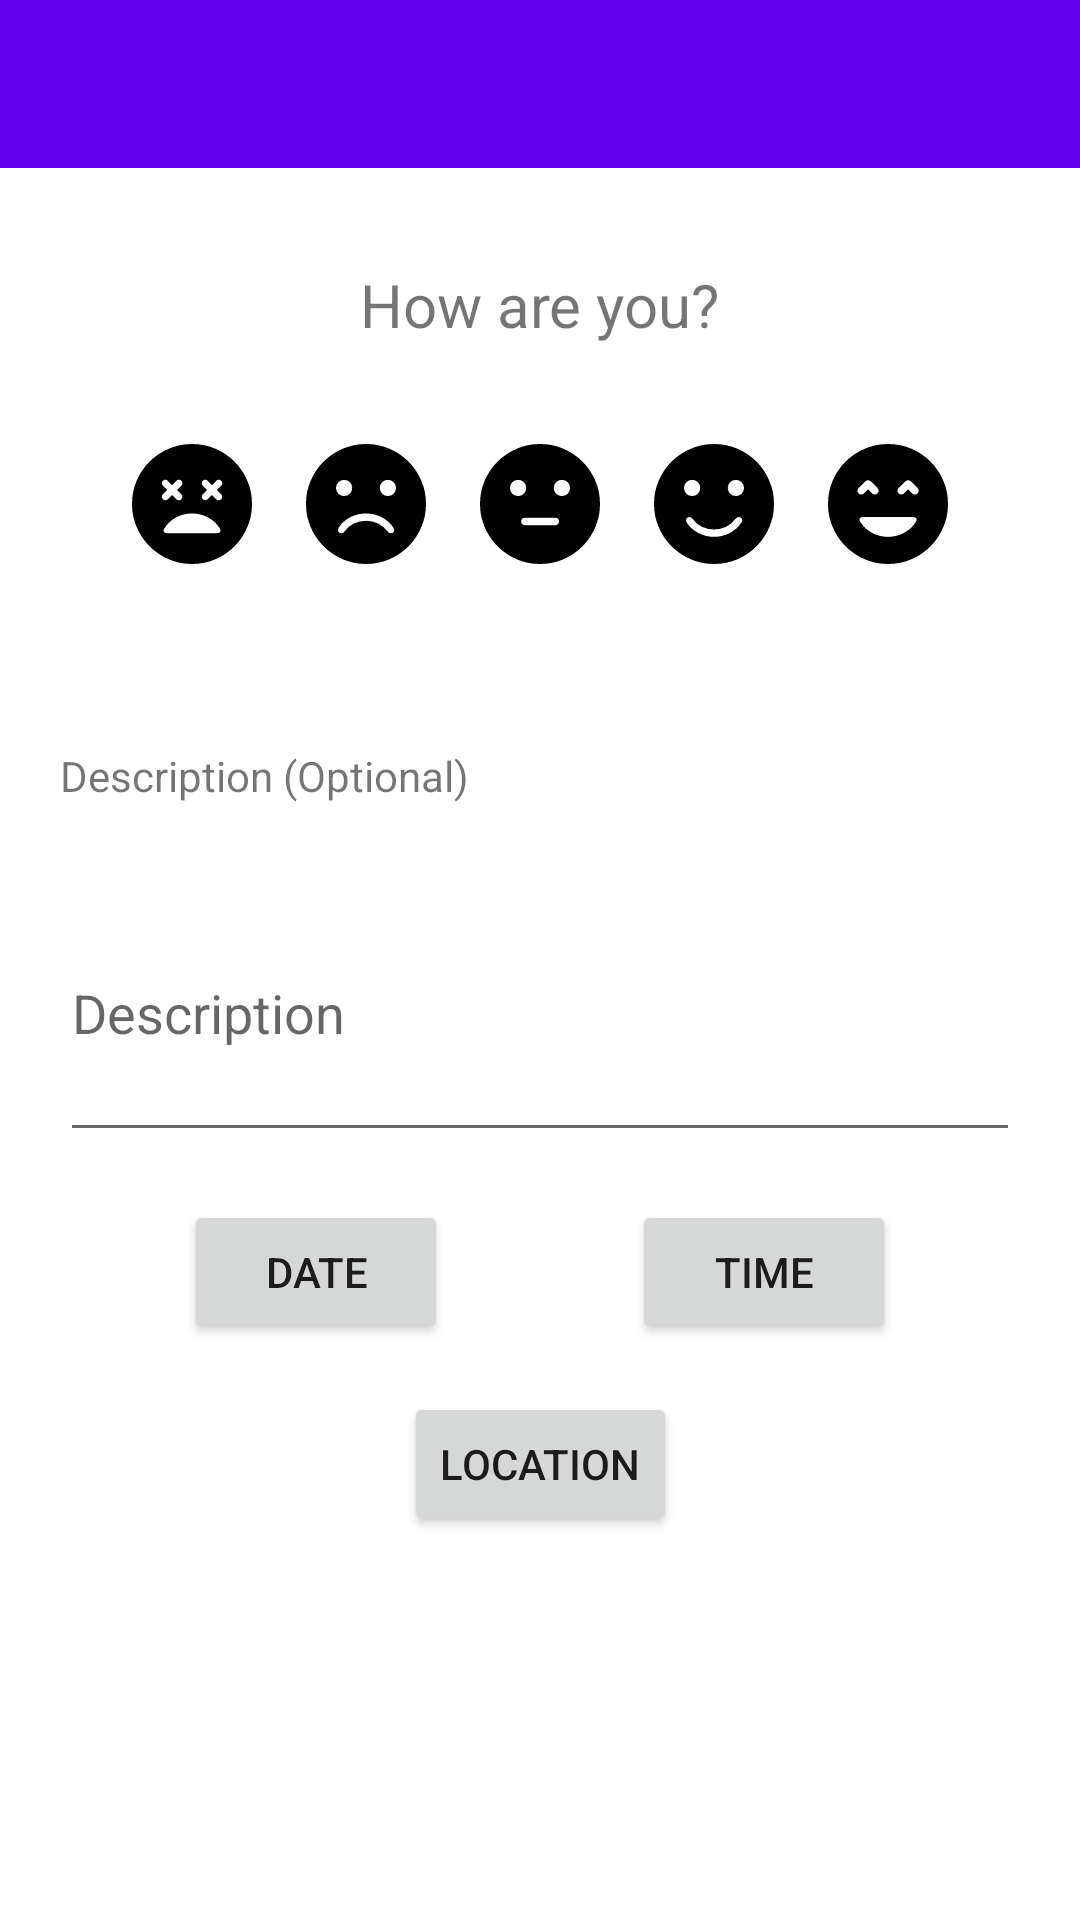

Locate icon controls on the screen. Image size 1080x1920, boxes as [left=x1, top=y1, right=x2, bottom=y2].
sentiment dissatisfied: [left=306, top=444, right=426, bottom=564]
sentiment neutral: [left=480, top=444, right=600, bottom=564]
sentiment satisfied: [left=654, top=444, right=774, bottom=564]
sentiment very dissatisfied: [left=132, top=444, right=252, bottom=564]
sentiment very satisfied: [left=828, top=444, right=948, bottom=564]
